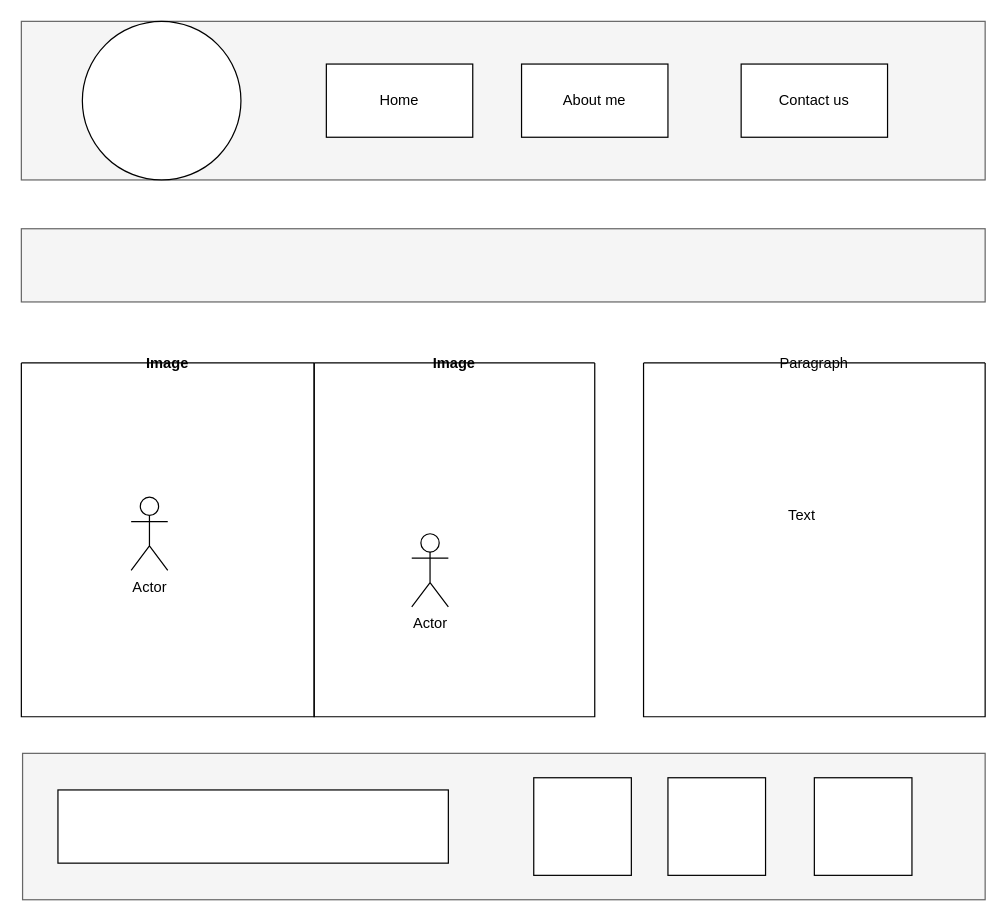
The diagram is 1007 pixels wide and 921 high, and some of its shapes have lost their labels. The shapes that lost their labels are listed below. From the top down, each one's centre as x and y in pixels, then its label:
At point (161, 100): "Logo".
At point (502, 265): "Heading".
